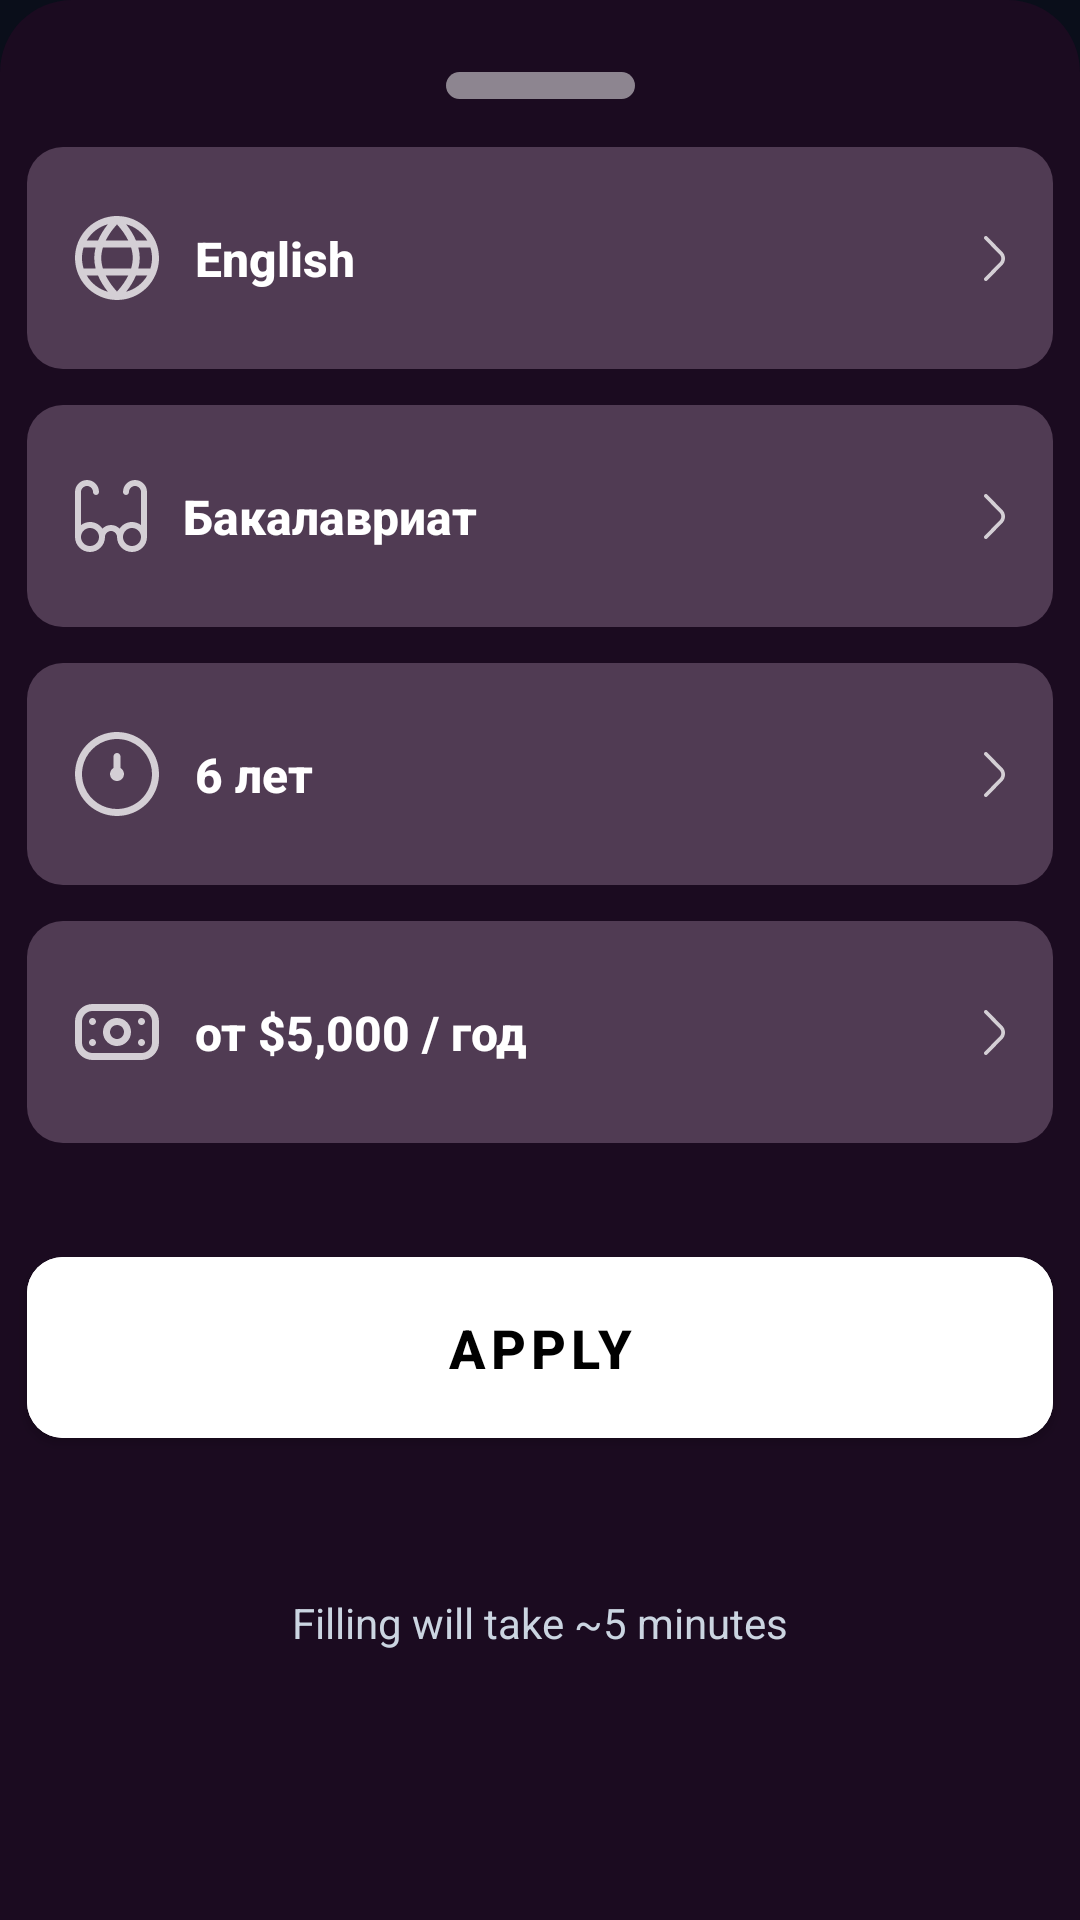

Locate icon controls on the screen. Image size 1080 × 1920, boxes as (x1, y1, x2, y2).
program clock: (75, 732, 159, 816)
program degree: (75, 480, 147, 552)
program language: (75, 216, 159, 300)
program money: (75, 1004, 159, 1060)
